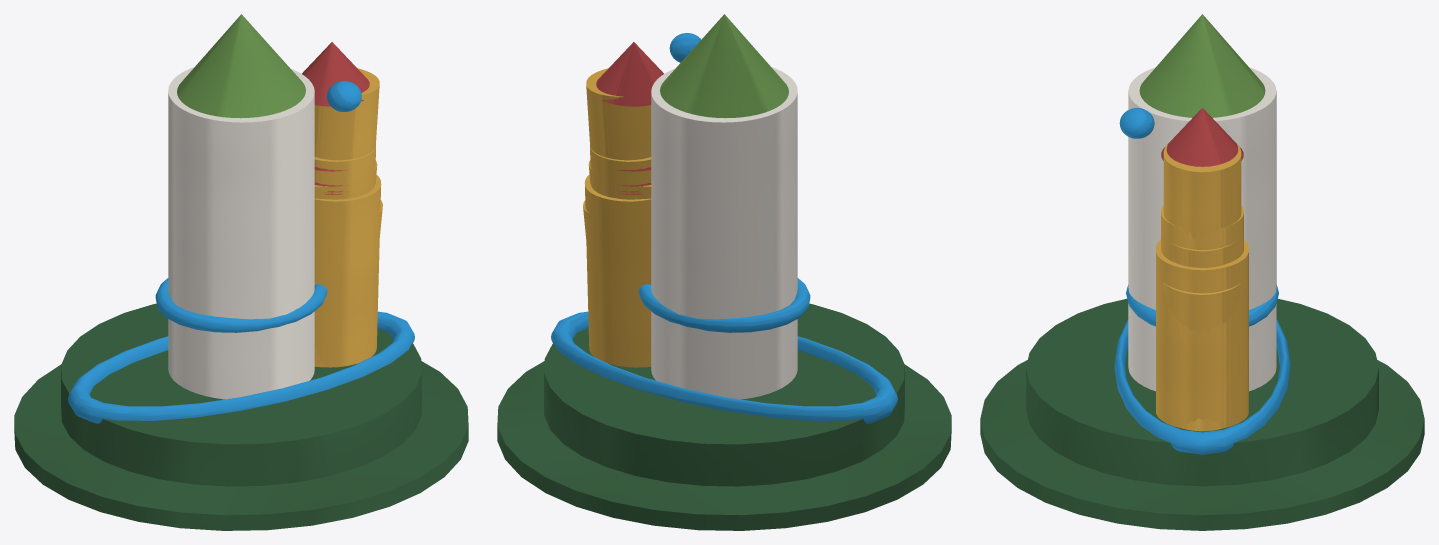
File: 0537_岩石矿物图鉴_大理岩.glb
The picture shows the model from 3 angles, left to right: view 1: azimuth 30°, elevation 25°; view 2: azimuth 150°, elevation 25°; view 3: azimuth 270°, elevation 25°; orthographic projection.
Parts seen in each view (by area): view 1: card_0537; view 2: card_0537; view 3: card_0537.
Boxes of the visible parts, left/top/right/bottom form: card_0537: left=14, top=14, right=468, bottom=530; card_0537: left=497, top=14, right=951, bottom=530; card_0537: left=980, top=14, right=1424, bottom=530.
Size of the model in its own units: 0.9849 by 1 by 0.9577.
